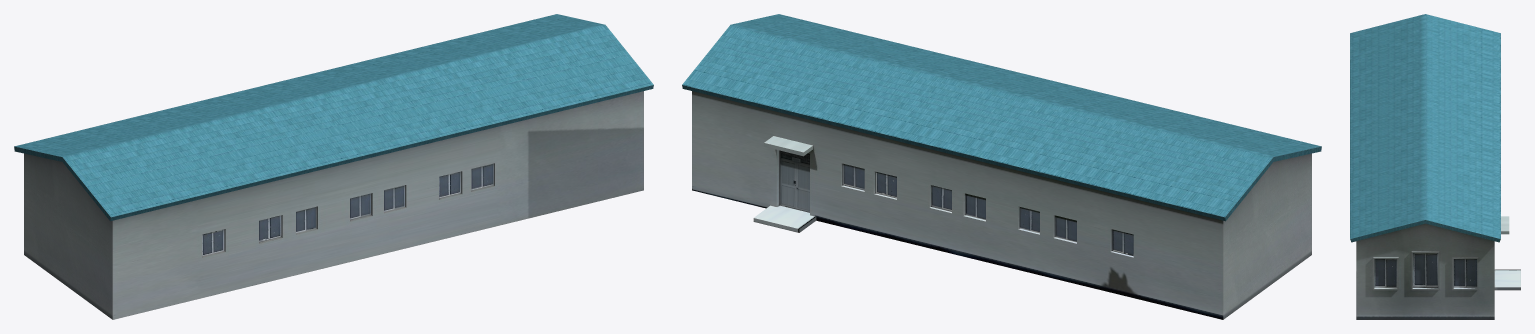
The model's file is build7YNSCYQ.glb.
3 renders of one model, left to right at view 1: azimuth 30°, elevation 25°; view 2: azimuth 150°, elevation 25°; view 3: azimuth 270°, elevation 25°, orthographic. The views are drawn at different scales.
Parts seen in each view (by area): view 1: bulid7YNSCYQ; view 2: bulid7YNSCYQ; view 3: bulid7YNSCYQ.
Boxes of the visible parts, x1,y1,x2,y2 form: bulid7YNSCYQ: (14, 14, 653, 319); bulid7YNSCYQ: (682, 14, 1321, 319); bulid7YNSCYQ: (1350, 14, 1520, 319).
Bounding box in the file's own units: 2457 × 569 × 861.
Materials: 1 (1 with a texture image).
